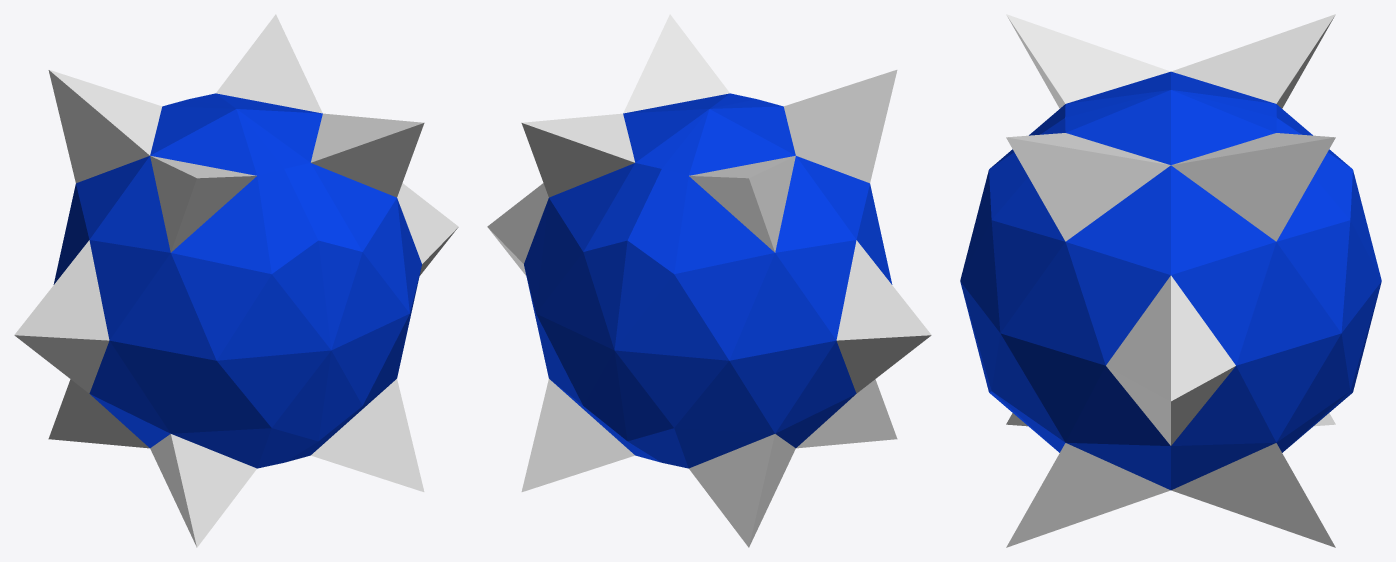
The model's file is ball.glb.
3 views of the same model, side by side, from view 1: azimuth 30°, elevation 25°; view 2: azimuth 150°, elevation 25°; view 3: azimuth 270°, elevation 25° (orthographic). The views are drawn at different scales.
Visible parts, largest first — view 1: Cube; view 2: Cube; view 3: Cube.
Boxes of the visible parts, left/top/right/bottom form: Cube: left=14, top=14, right=458, bottom=547; Cube: left=487, top=14, right=931, bottom=547; Cube: left=960, top=14, right=1381, bottom=547.
Bounding box in the file's own units: 2.7 × 2.15 × 2.
